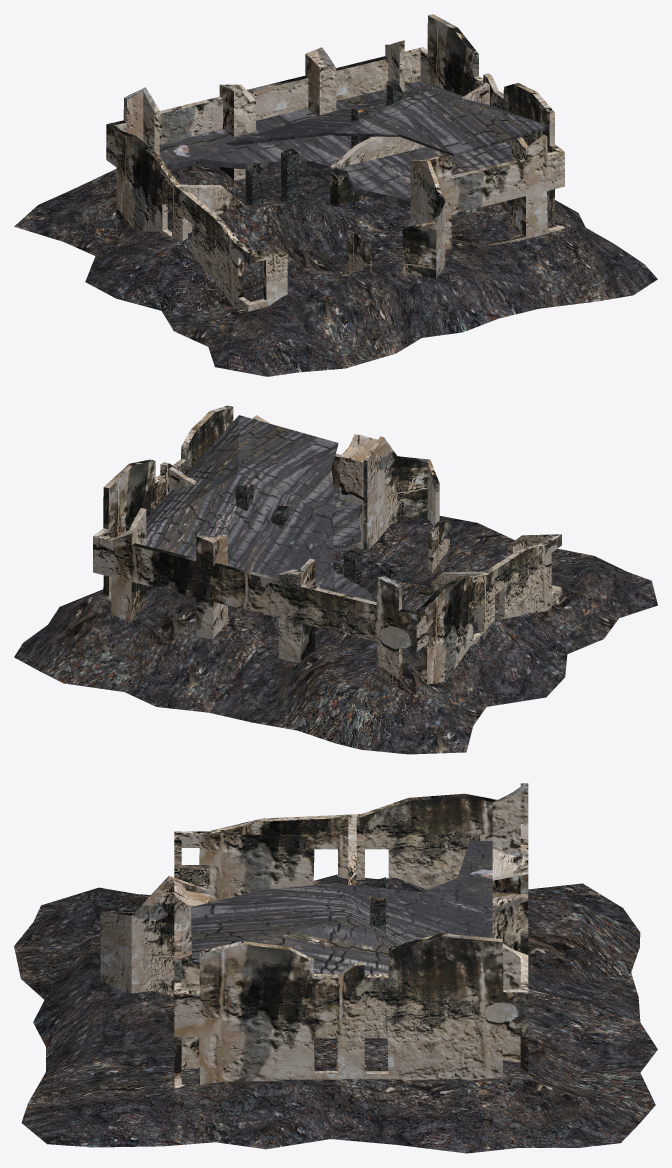
The model's file is large_haus_ruins.fbx.
The picture shows the model from 3 angles, top to bottom: view 1: azimuth 30°, elevation 25°; view 2: azimuth 150°, elevation 25°; view 3: azimuth 270°, elevation 25°; orthographic projection. The views are drawn at different scales.
Visible parts, largest first — view 1: large_haus_ruins_LOD0; view 2: large_haus_ruins_LOD0; view 3: large_haus_ruins_LOD0.
Part boxes in pixels (x1,y1,x2,y2): large_haus_ruins_LOD0: [14, 14, 657, 376]; large_haus_ruins_LOD0: [14, 405, 657, 754]; large_haus_ruins_LOD0: [14, 783, 657, 1153].
Size of what is drawn, in the model's own units: 25.46 by 7.95 by 25.46.
